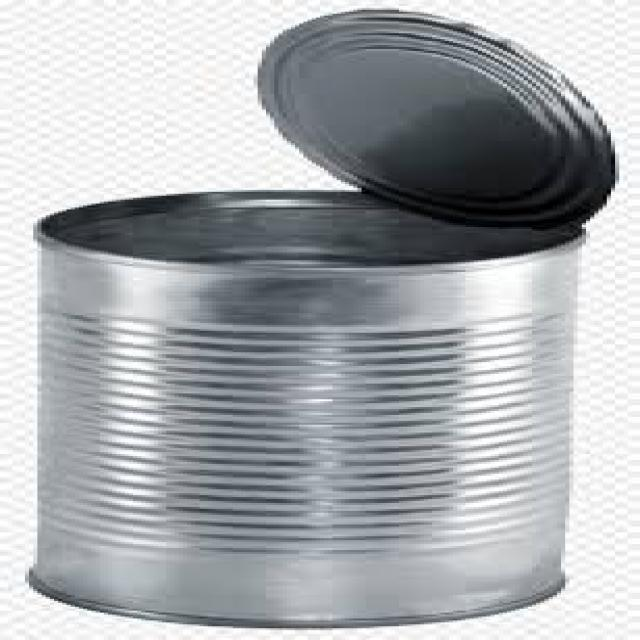recyclable: (29, 190, 586, 628), (259, 5, 621, 230)
